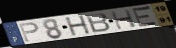8: (43, 18, 64, 40)
B: (84, 12, 112, 34)
E: (131, 5, 160, 29)
H: (64, 14, 93, 37), (110, 8, 138, 30)
P: (18, 21, 41, 43)
